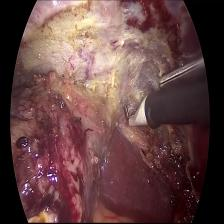Grasper: (156, 54, 205, 87)
Hook: (120, 89, 151, 135)
